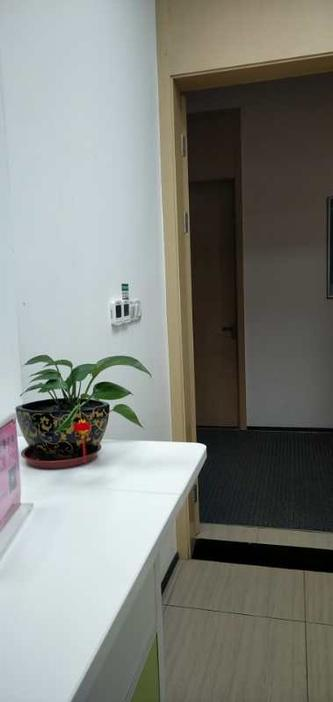switch: (128, 305, 145, 322)
